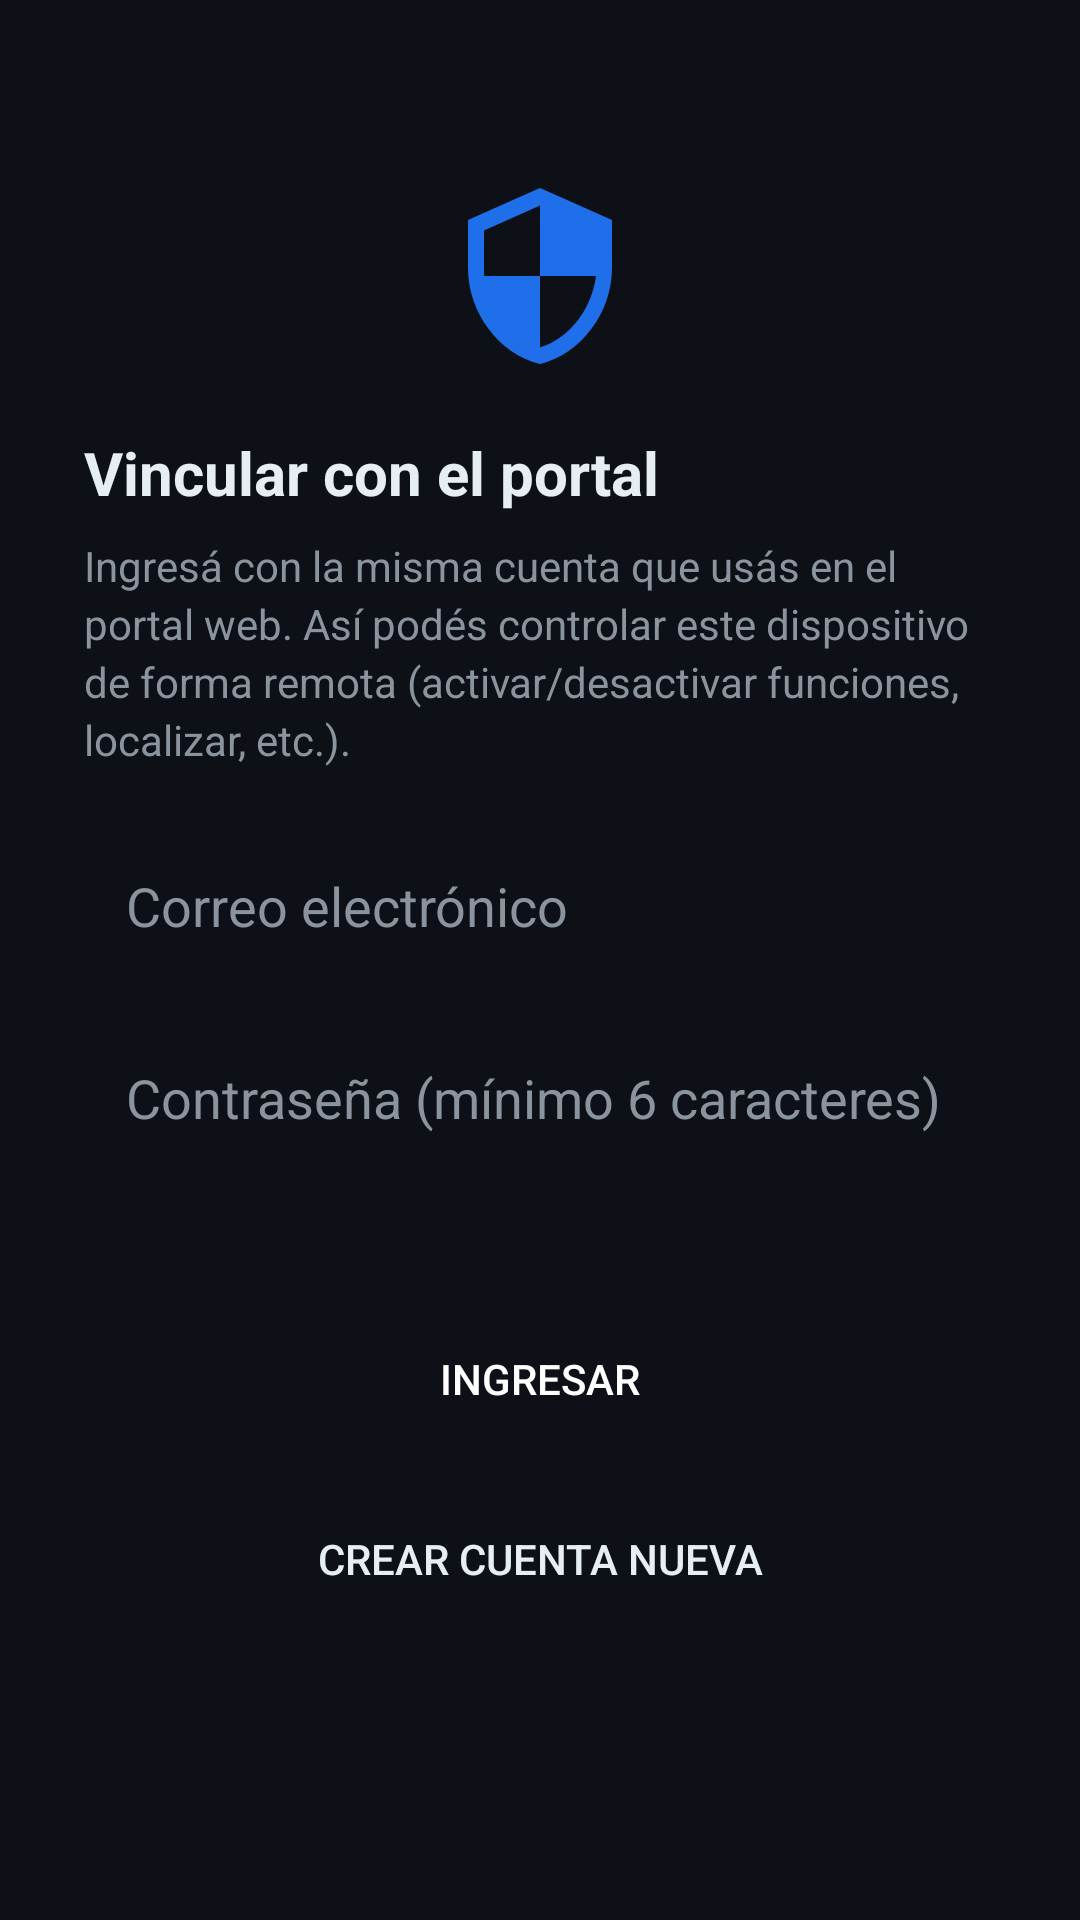

Icon bounding boxes for this 1080x1920 phone screenshot, format (x1, y1, x2, y2):
shield: (468, 188, 612, 364)
